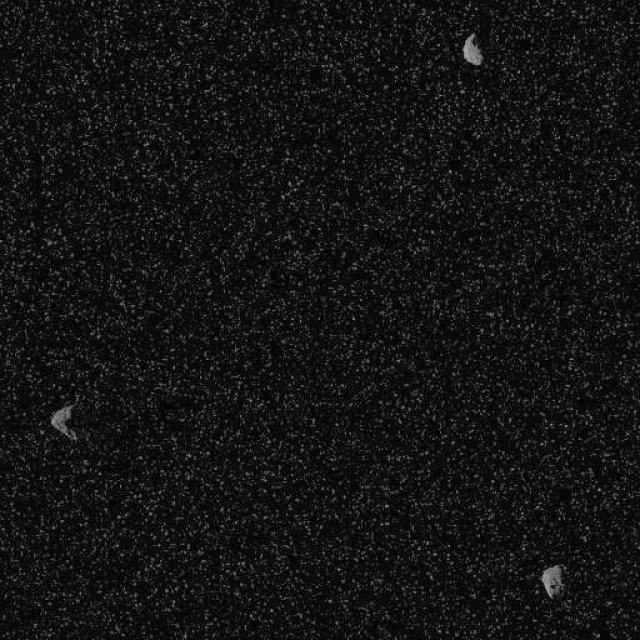D2: (49, 401, 79, 441), (540, 564, 565, 600), (461, 32, 484, 66)
